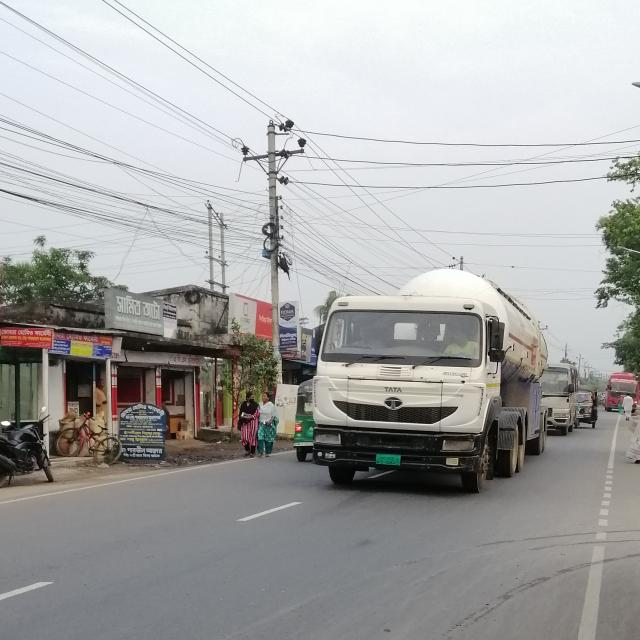Truck: (305, 253, 554, 498)
